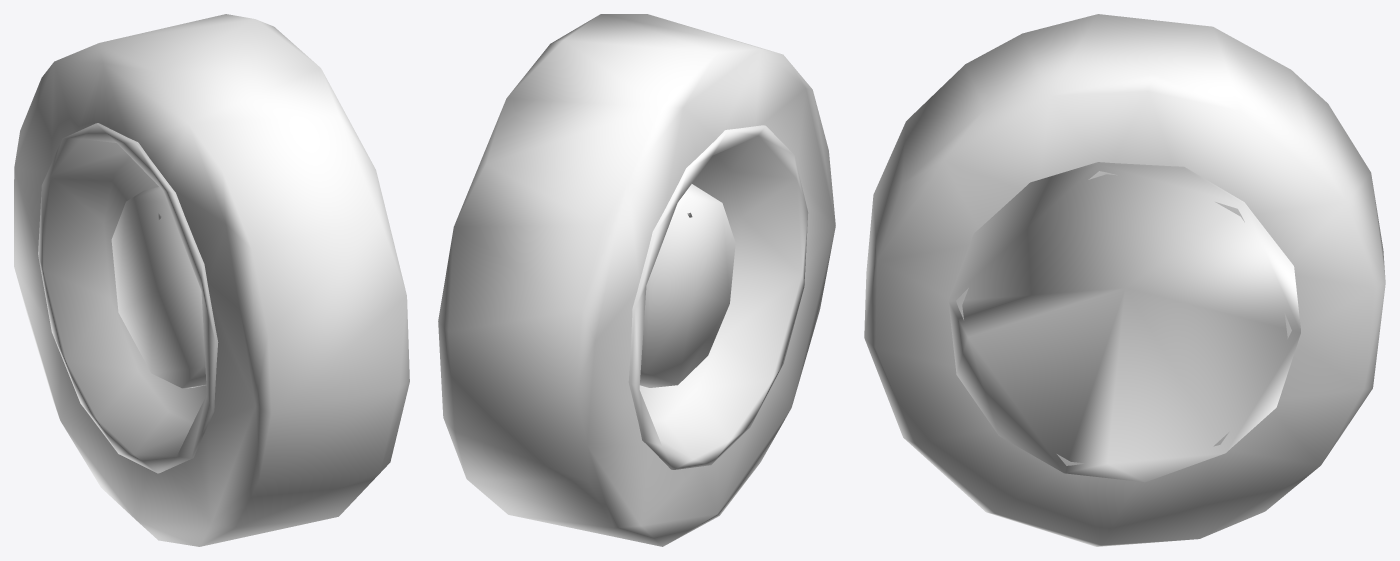
The picture shows the model from 3 angles, left to right: view 1: azimuth 30°, elevation 25°; view 2: azimuth 150°, elevation 25°; view 3: azimuth 270°, elevation 25°; orthographic projection.
Size of the model in its own units: 0.1933 by 0.5116 by 0.5112.
1 material, 1 textured.
